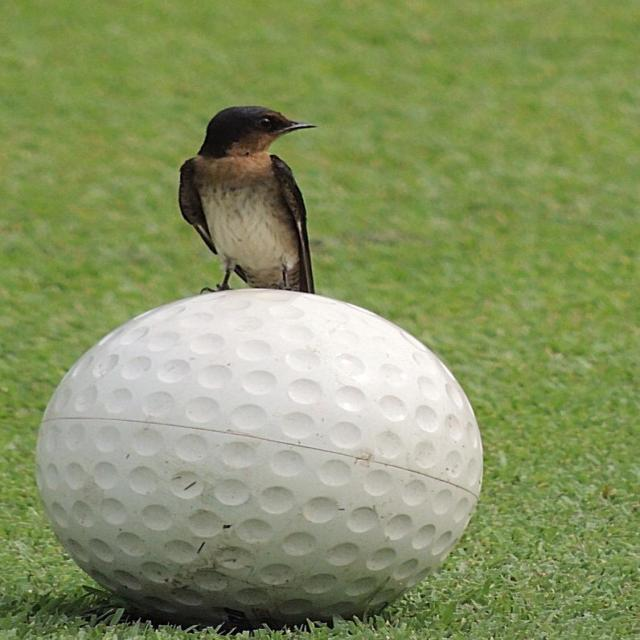GolfBall: (26, 282, 493, 628)
